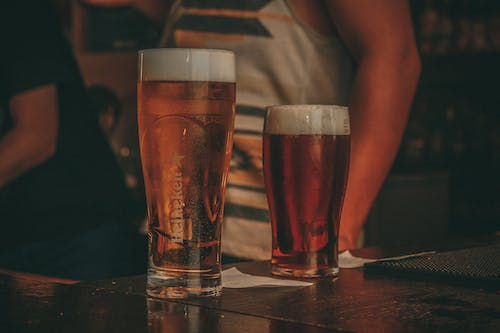alcohol: (135, 47, 237, 300), (261, 103, 351, 278)
